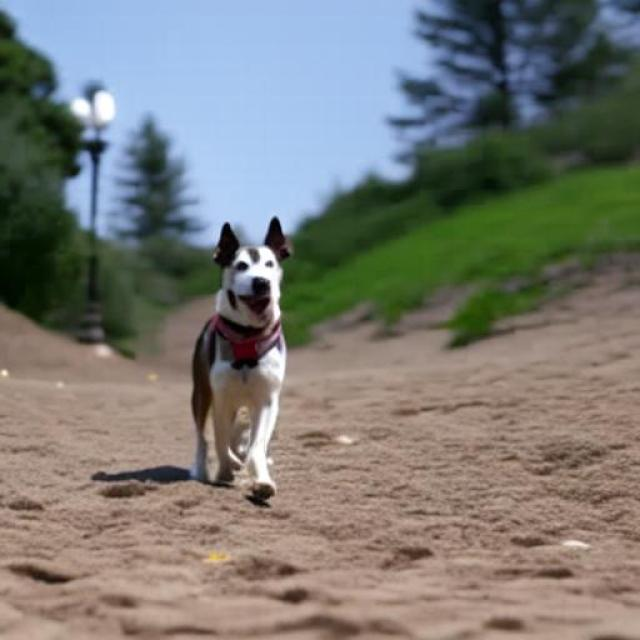Dog: (189, 215, 294, 497)
